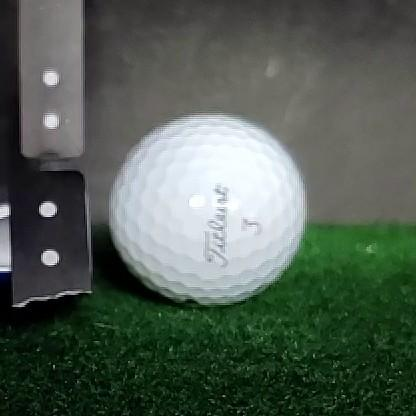golfball: (109, 115, 306, 305)
